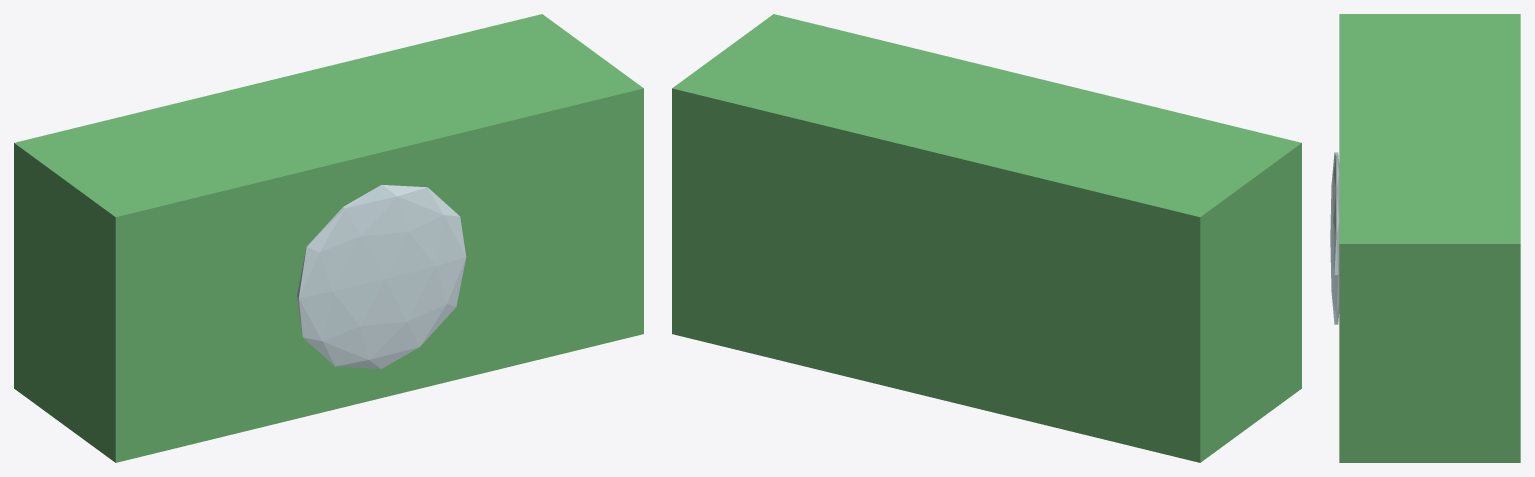
File: sm_product_frozen_peas.glb
3 views of the same model, side by side, from view 1: azimuth 30°, elevation 25°; view 2: azimuth 150°, elevation 25°; view 3: azimuth 270°, elevation 25° (orthographic). The views are drawn at different scales.
Visible parts, largest first — view 1: frozen_peas_0, frozen_peas_1; view 2: frozen_peas_0; view 3: frozen_peas_0, frozen_peas_1.
Boxes of the visible parts, x1,y1,x2,y2 form: frozen_peas_0: (14, 14, 643, 462); frozen_peas_1: (296, 184, 466, 368); frozen_peas_0: (672, 14, 1301, 462); frozen_peas_0: (1339, 14, 1520, 462); frozen_peas_1: (1330, 152, 1339, 324).
Size of what is drawn, in the model's own units: 0.18 by 0.08 by 0.063.
